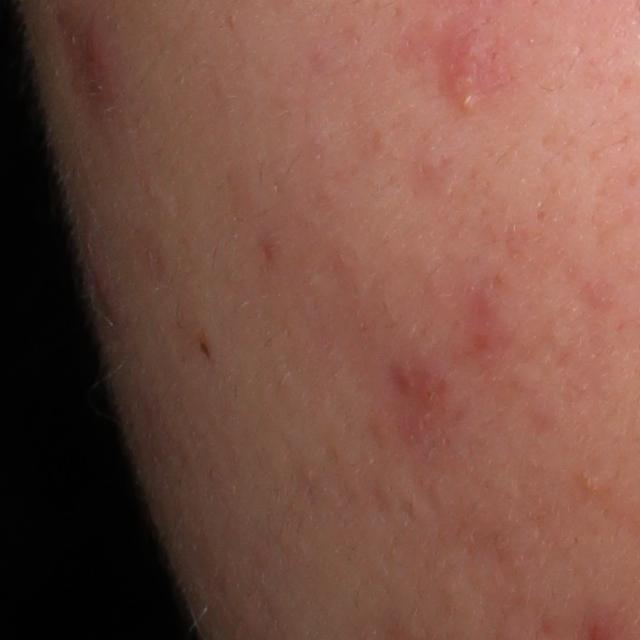comedo: (575, 463, 605, 492)
papule: (76, 27, 131, 112), (439, 57, 479, 116), (86, 254, 119, 319)
